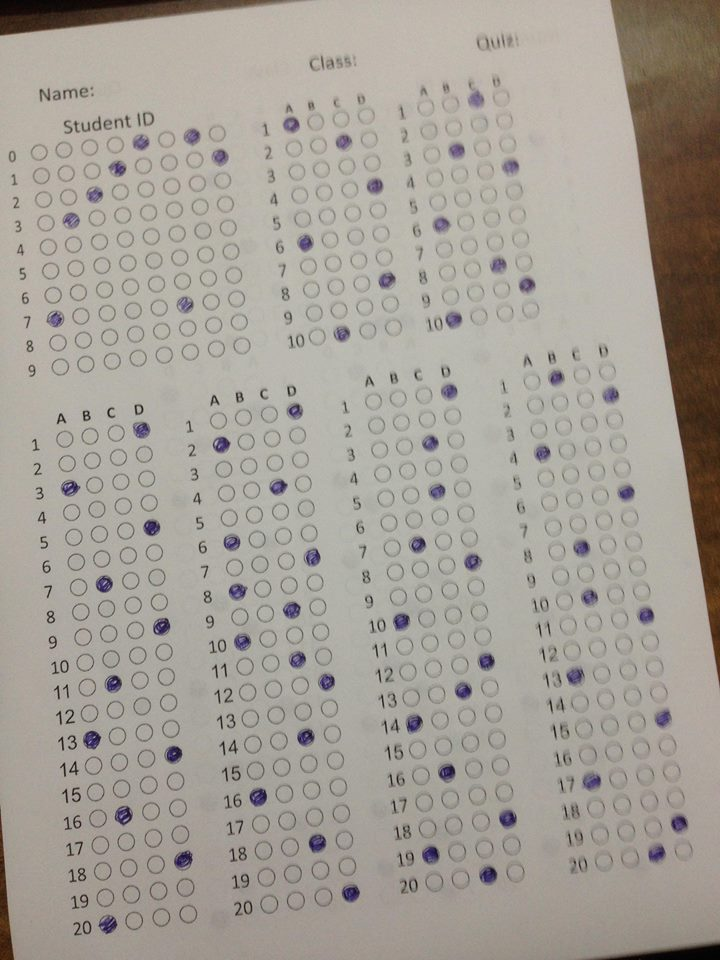not-c: (177, 903, 201, 925), (661, 761, 683, 785), (592, 851, 616, 873), (114, 830, 137, 852), (625, 711, 648, 733), (586, 797, 608, 820), (673, 841, 696, 863), (620, 846, 642, 868), (90, 861, 114, 881), (140, 802, 162, 823), (146, 855, 168, 876), (228, 606, 250, 627), (322, 724, 344, 745), (271, 757, 292, 779), (503, 182, 525, 203), (426, 684, 448, 705), (624, 532, 645, 554), (579, 745, 600, 767), (656, 736, 677, 758), (139, 773, 159, 796), (267, 704, 286, 728), (637, 764, 656, 788), (168, 797, 189, 818), (423, 658, 444, 679), (463, 758, 484, 779), (613, 459, 634, 480), (206, 123, 228, 143), (71, 628, 93, 648), (131, 697, 153, 717), (317, 208, 339, 228), (283, 862, 303, 884), (311, 859, 331, 881), (257, 894, 279, 914), (451, 188, 473, 208), (449, 455, 471, 475), (375, 488, 397, 508), (447, 629, 467, 651), (440, 789, 462, 809), (542, 518, 564, 538), (639, 793, 661, 813), (645, 818, 665, 840), (608, 770, 631, 789), (167, 224, 188, 244), (89, 524, 109, 545), (91, 835, 111, 856), (95, 889, 116, 909), (274, 525, 295, 545), (298, 755, 318, 776), (325, 751, 345, 772), (304, 808, 324, 829), (278, 837, 299, 857), (255, 868, 276, 888), (338, 856, 358, 877), (450, 655, 470, 676), (434, 737, 454, 758), (487, 730, 508, 750), (490, 757, 511, 777), (493, 782, 513, 803), (502, 837, 523, 857), (450, 869, 470, 890), (604, 743, 625, 763), (215, 484, 237, 503), (311, 622, 330, 644), (423, 144, 442, 166), (455, 216, 477, 235), (451, 480, 473, 499), (599, 716, 621, 735), (49, 359, 72, 377), (306, 328, 329, 346), (205, 339, 225, 359), (109, 752, 129, 772), (137, 749, 157, 769), (174, 878, 194, 898), (150, 907, 170, 927), (291, 451, 311, 471), (250, 555, 270, 575), (243, 735, 263, 755), (332, 803, 352, 823), (253, 842, 273, 862), (494, 303, 514, 323), (364, 392, 384, 412), (458, 504, 478, 524), (480, 679, 500, 699), (619, 509, 639, 529), (545, 540, 565, 560), (576, 564, 596, 584), (583, 613, 603, 633), (619, 661, 639, 681), (632, 738, 652, 758), (614, 796, 634, 816), (99, 303, 118, 324), (178, 319, 199, 338), (231, 335, 252, 354), (56, 454, 77, 473), (144, 544, 165, 563), (122, 572, 141, 593), (147, 569, 168, 588), (80, 703, 99, 724), (161, 720, 182, 739), (87, 781, 106, 802), (123, 885, 142, 906), (353, 276, 374, 295), (330, 300, 349, 321), (239, 457, 260, 476), (266, 453, 285, 474), (298, 525, 319, 544), (259, 654, 280, 673), (269, 731, 288, 752), (328, 777, 347, 798), (476, 161, 497, 180), (511, 231, 532, 250), (514, 254, 533, 275), (377, 514, 398, 533), (409, 558, 430, 577), (413, 794, 434, 813), (442, 816, 463, 835), (599, 537, 618, 558), (586, 638, 607, 657), (101, 351, 123, 369), (86, 810, 108, 828), (142, 830, 164, 848), (417, 121, 439, 139), (467, 577, 485, 599), (571, 366, 593, 384), (552, 592, 574, 610), (225, 265, 244, 285), (226, 289, 246, 308), (76, 356, 96, 375), (62, 504, 82, 523), (113, 497, 133, 516), (70, 578, 90, 597), (124, 596, 143, 616), (150, 592, 169, 612), (135, 723, 154, 743), (119, 859, 138, 879), (150, 880, 169, 900), (285, 139, 304, 159), (339, 157, 358, 177), (369, 202, 389, 221), (299, 257, 319, 276), (351, 251, 370, 271), (259, 405, 279, 424), (288, 427, 308, 446), (225, 557, 244, 577), (280, 577, 299, 597), (314, 648, 334, 667), (246, 762, 266, 781), (274, 785, 294, 804), (302, 780, 321, 800), (251, 815, 271, 834), (278, 811, 297, 831), (312, 887, 332, 906), (510, 207, 530, 226), (486, 233, 505, 253), (397, 462, 417, 481), (381, 538, 401, 557), (434, 533, 454, 552), (442, 582, 461, 602), (395, 638, 415, 657), (431, 711, 450, 731), (473, 839, 493, 858), (505, 863, 524, 883), (577, 389, 596, 409), (570, 515, 590, 534), (617, 822, 636, 842), (79, 139, 100, 157), (193, 223, 214, 241), (94, 281, 115, 299), (128, 347, 146, 368), (112, 472, 130, 493), (172, 825, 190, 846), (439, 288, 460, 306), (366, 417, 387, 435), (485, 702, 503, 723), (411, 767, 432, 785), (447, 843, 468, 861), (604, 412, 625, 430), (608, 434, 629, 452), (538, 468, 556, 489), (550, 568, 571, 586), (628, 559, 649, 577), (650, 683, 668, 704), (278, 551, 295, 573), (242, 708, 259, 730), (497, 137, 519, 154), (468, 310, 490, 327), (399, 661, 416, 683), (473, 812, 490, 834), (64, 236, 83, 255), (89, 233, 108, 252), (43, 286, 62, 305), (68, 283, 87, 302), (122, 277, 141, 296), (71, 308, 90, 327), (110, 449, 129, 468), (140, 494, 159, 513), (98, 599, 117, 618), (126, 621, 145, 640), (160, 694, 179, 713), (332, 110, 351, 129), (382, 296, 401, 315), (237, 433, 256, 452), (221, 508, 240, 527), (271, 503, 290, 522), (335, 832, 354, 851), (286, 891, 305, 910), (443, 94, 462, 113), (440, 263, 459, 282), (521, 300, 540, 319), (369, 440, 388, 459), (395, 438, 414, 457), (431, 507, 450, 526), (470, 603, 489, 622), (590, 486, 609, 505), (159, 155, 179, 173), (162, 177, 182, 195), (140, 204, 158, 224), (84, 451, 102, 471), (138, 469, 156, 489), (92, 550, 112, 568), (154, 644, 174, 662), (106, 700, 124, 720), (107, 727, 127, 745), (85, 755, 103, 775), (312, 161, 332, 179), (359, 321, 379, 339), (210, 411, 228, 431), (258, 630, 278, 648), (237, 683, 257, 701), (291, 675, 309, 695), (416, 98, 436, 116), (446, 117, 464, 137), (493, 281, 513, 299), (442, 408, 462, 426), (446, 432, 466, 450), (417, 608, 435, 628), (444, 606, 462, 626), (421, 633, 439, 653), (473, 628, 493, 646), (408, 740, 428, 758), (462, 734, 480, 754), (423, 874, 443, 892), (633, 582, 651, 602), (623, 688, 643, 706), (574, 720, 594, 738), (105, 137, 126, 154), (157, 132, 178, 149), (37, 239, 58, 256), (151, 323, 172, 340), (232, 312, 249, 333), (53, 431, 74, 448), (118, 547, 139, 564), (77, 680, 98, 697), (305, 114, 326, 131), (639, 633, 660, 650), (55, 141, 74, 159), (88, 210, 107, 228), (143, 228, 161, 247), (41, 262, 60, 280), (66, 260, 85, 278), (173, 274, 192, 292), (124, 301, 143, 319), (150, 299, 169, 317), (127, 325, 146, 343), (135, 446, 154, 464), (64, 528, 83, 546), (68, 554, 87, 572), (127, 647, 146, 665), (112, 779, 131, 797), (166, 773, 184, 792), (358, 107, 376, 126), (316, 184, 335, 202), (343, 205, 361, 224), (347, 228, 366, 246), (373, 224, 391, 243), (234, 409, 253, 427), (214, 460, 233, 478), (295, 475, 314, 493), (245, 506, 264, 524), (298, 499, 316, 518), (247, 530, 266, 548), (464, 262, 482, 281), (466, 286, 485, 304), (372, 464, 391, 482), (402, 486, 420, 505), (402, 690, 421, 708), (527, 396, 546, 414), (606, 586, 625, 604), (559, 617, 578, 635), (563, 642, 582, 660), (571, 693, 590, 711), (38, 213, 55, 233), (48, 334, 68, 351), (153, 348, 173, 365), (87, 501, 107, 518), (117, 523, 137, 540), (293, 211, 313, 228), (242, 483, 262, 500), (252, 581, 272, 598), (468, 115, 488, 132), (436, 241, 456, 258), (391, 414, 411, 431), (461, 528, 478, 548), (436, 558, 456, 575), (457, 709, 477, 726), (468, 785, 485, 805), (417, 821, 437, 838), (598, 363, 618, 380), (552, 393, 569, 413), (565, 491, 585, 508), (595, 513, 615, 530), (598, 688, 615, 708), (666, 791, 686, 808), (115, 208, 133, 226), (148, 276, 166, 294), (100, 329, 118, 347), (206, 316, 224, 334), (81, 427, 99, 445), (102, 650, 120, 668), (131, 671, 149, 689), (309, 137, 327, 155), (325, 255, 343, 273), (384, 320, 402, 338), (256, 606, 274, 624), (492, 87, 510, 105), (461, 238, 479, 256), (416, 585, 434, 603), (593, 827, 611, 845), (187, 152, 206, 169), (111, 183, 130, 200), (189, 175, 206, 194), (166, 201, 183, 220), (116, 231, 135, 248), (171, 248, 188, 267), (197, 247, 216, 264), (180, 344, 199, 361), (77, 654, 96, 671), (360, 131, 379, 148), (365, 155, 382, 174), (291, 188, 310, 205), (302, 281, 321, 298), (306, 304, 323, 323), (262, 431, 281, 448), (429, 192, 446, 211), (389, 391, 408, 408), (415, 388, 434, 405), (425, 459, 444, 476), (405, 511, 424, 528), (385, 563, 404, 580), (390, 588, 409, 605), (589, 462, 606, 481), (603, 562, 622, 579), (646, 659, 663, 678), (192, 200, 212, 216), (100, 626, 120, 642), (156, 669, 176, 685), (307, 572, 323, 592), (593, 667, 613, 683), (31, 143, 48, 161), (33, 167, 50, 185), (61, 189, 79, 206), (137, 181, 155, 198), (221, 219, 238, 237), (203, 294, 220, 312), (108, 423, 125, 441), (86, 476, 104, 493), (72, 604, 90, 621), (126, 912, 143, 930), (377, 248, 394, 266), (328, 279, 346, 296), (237, 657, 254, 675), (265, 681, 283, 698), (295, 704, 313, 721), (496, 112, 514, 129), (480, 187, 498, 204), (585, 440, 603, 457), (614, 636, 632, 653), (355, 299, 374, 315), (525, 373, 541, 392), (581, 415, 597, 434), (556, 443, 575, 459), (92, 259, 112, 274), (539, 496, 559, 511), (215, 173, 232, 190), (323, 232, 340, 249), (310, 598, 327, 615), (286, 627, 303, 644), (134, 158, 152, 174), (218, 196, 234, 214), (146, 252, 162, 270), (75, 332, 93, 348), (474, 140, 490, 158), (417, 411, 435, 427), (555, 420, 573, 436), (611, 613, 629, 629), (562, 467, 581, 482), (58, 165, 74, 182), (83, 164, 100, 180), (120, 256, 137, 272), (224, 243, 240, 260), (342, 183, 359, 199), (321, 701, 337, 718), (483, 211, 500, 227), (289, 165, 307, 180), (35, 192, 51, 208), (428, 172, 444, 188), (451, 168, 468, 183), (530, 423, 547, 438), (200, 271, 217, 285)
taken-c: (496, 805, 522, 834), (477, 862, 500, 891), (111, 801, 135, 828), (232, 632, 257, 656), (635, 606, 660, 629), (170, 850, 197, 871), (96, 914, 120, 937), (226, 580, 248, 605), (419, 846, 444, 868), (377, 269, 400, 292), (571, 538, 594, 561), (566, 665, 589, 688), (101, 672, 125, 694), (246, 787, 271, 808), (317, 669, 338, 694), (486, 255, 511, 276), (401, 714, 423, 737), (340, 884, 364, 905), (309, 832, 330, 856), (57, 478, 82, 498), (582, 586, 602, 611), (530, 442, 552, 464), (83, 183, 104, 206), (220, 533, 241, 556), (364, 176, 387, 197), (294, 232, 317, 253), (431, 215, 454, 236), (294, 726, 315, 748), (282, 600, 303, 622), (422, 431, 443, 453), (452, 682, 474, 703), (437, 762, 459, 783), (669, 813, 690, 835), (581, 770, 601, 793), (646, 843, 666, 866), (614, 485, 638, 504), (653, 708, 672, 732), (141, 518, 162, 539), (131, 421, 153, 441), (164, 746, 186, 766), (285, 399, 305, 421), (94, 575, 117, 594), (439, 383, 462, 402), (151, 618, 172, 638), (289, 651, 309, 672), (268, 477, 288, 498), (518, 277, 539, 297), (476, 653, 495, 675), (407, 536, 430, 554), (182, 125, 201, 146), (176, 295, 195, 316), (303, 550, 324, 569), (335, 133, 356, 152), (332, 325, 353, 344), (389, 614, 410, 633), (600, 386, 619, 407), (83, 730, 101, 752), (211, 436, 233, 454), (132, 133, 151, 153), (428, 482, 447, 502), (448, 140, 467, 160), (444, 311, 464, 330), (106, 159, 128, 176), (462, 552, 482, 570), (501, 158, 519, 178), (212, 148, 231, 166), (283, 116, 302, 134), (548, 369, 566, 388), (60, 212, 80, 229), (46, 311, 66, 328), (467, 91, 485, 109)
